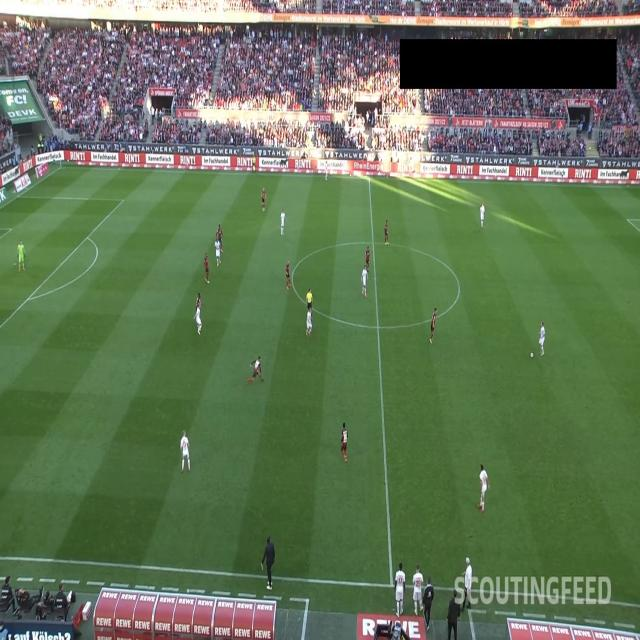ball: (530, 352, 534, 358)
